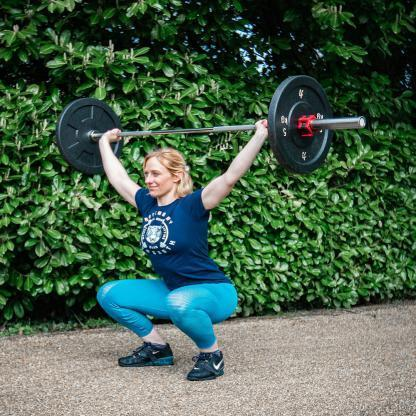Barbell: (357, 117, 368, 132)
